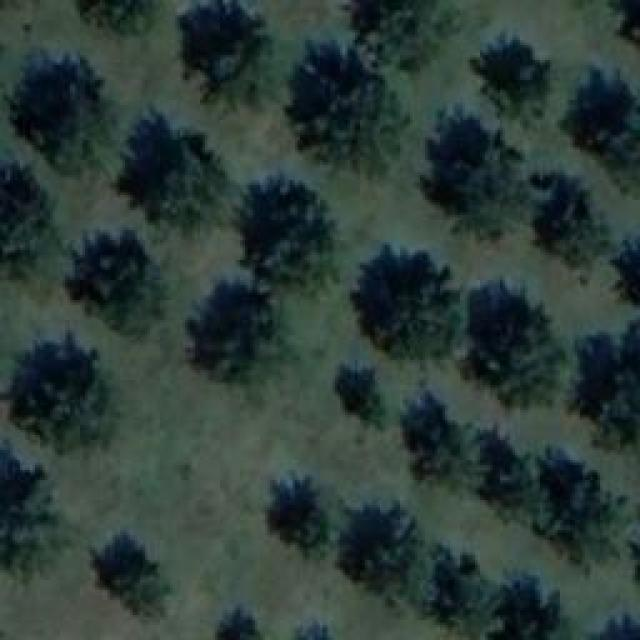Tree: (280, 40, 410, 178), (117, 107, 235, 245), (420, 103, 525, 248), (228, 168, 341, 298), (455, 280, 560, 413), (10, 58, 115, 183), (0, 343, 115, 456), (348, 245, 461, 360), (63, 233, 176, 346), (177, 0, 272, 122), (175, 280, 283, 383), (565, 330, 640, 473), (335, 0, 462, 82), (557, 65, 640, 190), (82, 527, 180, 625), (545, 450, 625, 568), (468, 30, 558, 130), (337, 490, 415, 593), (0, 150, 58, 285), (0, 445, 52, 592), (525, 170, 598, 270), (398, 392, 461, 490), (262, 473, 330, 558), (473, 443, 536, 523), (490, 578, 563, 638), (612, 203, 640, 356), (433, 548, 486, 628), (64, 0, 157, 42), (333, 365, 386, 428), (610, 0, 640, 75), (212, 605, 270, 640)
